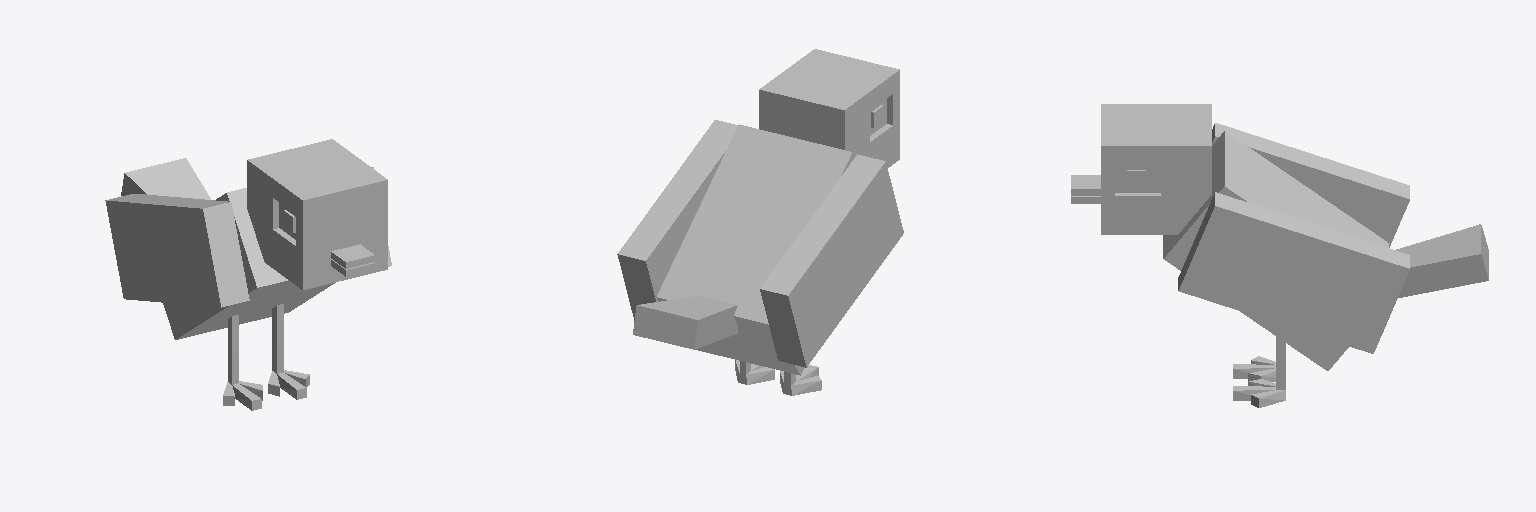
Rendered from Bird2.obj.
3 renders of one model, left to right at view 1: azimuth 30°, elevation 25°; view 2: azimuth 150°, elevation 25°; view 3: azimuth 270°, elevation 25°, orthographic.
Parts seen in each view (by area): view 1: Bird_Body_Cube; view 2: Bird_Body_Cube; view 3: Bird_Body_Cube.
Part boxes in pixels (x1,y1,x2,y2): Bird_Body_Cube: (105,139,391,410); Bird_Body_Cube: (617,49,903,395); Bird_Body_Cube: (1071,104,1488,407).
Size of the model in its own units: 0.6586 by 0.9674 by 1.4.